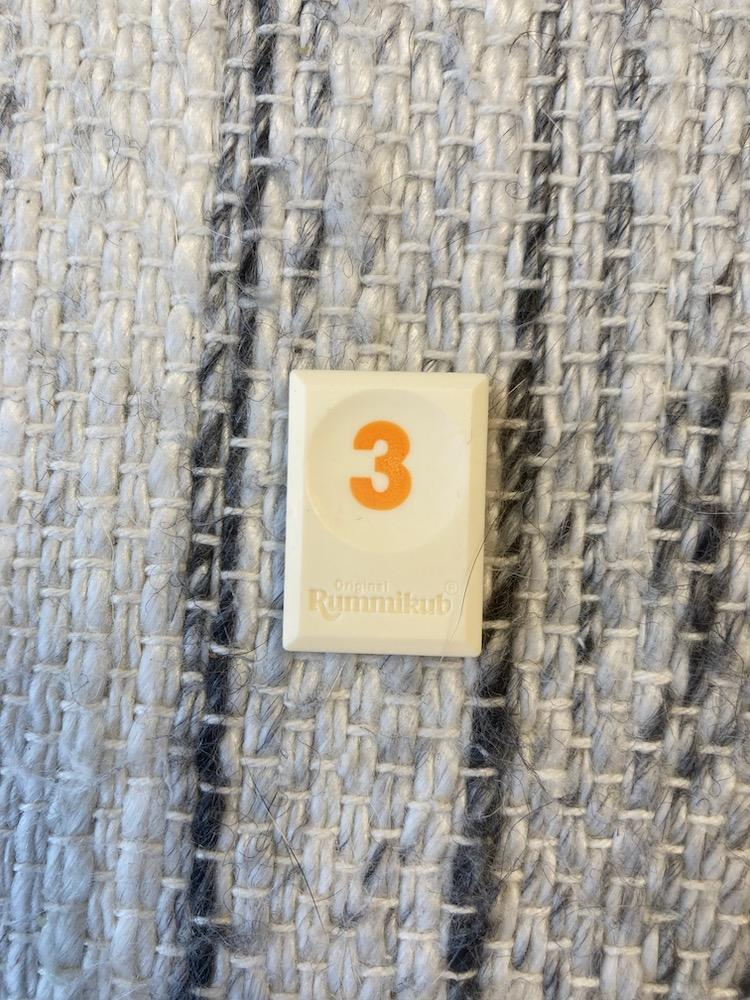orange_3: (285, 371, 488, 656)
